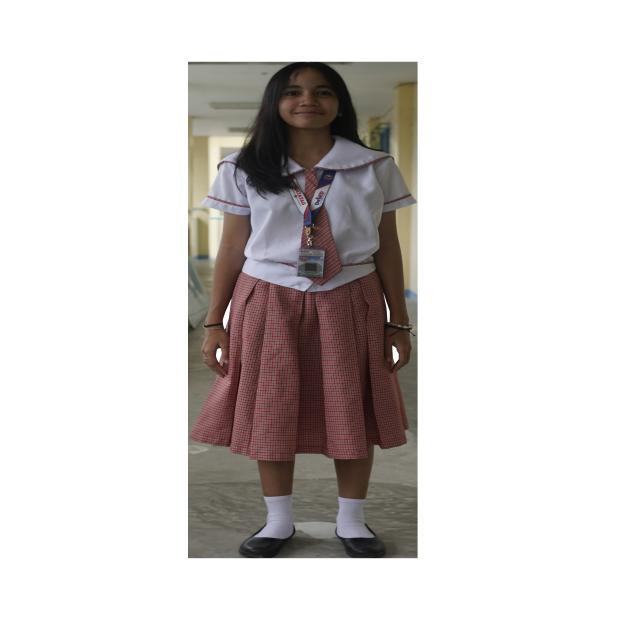id lace: (289, 170, 335, 228)
pologirl: (316, 136, 416, 292), (202, 153, 314, 291), (301, 205, 342, 284), (304, 169, 318, 207)
shoes: (239, 534, 293, 558), (338, 535, 386, 558)
skirt: (191, 271, 408, 461)
